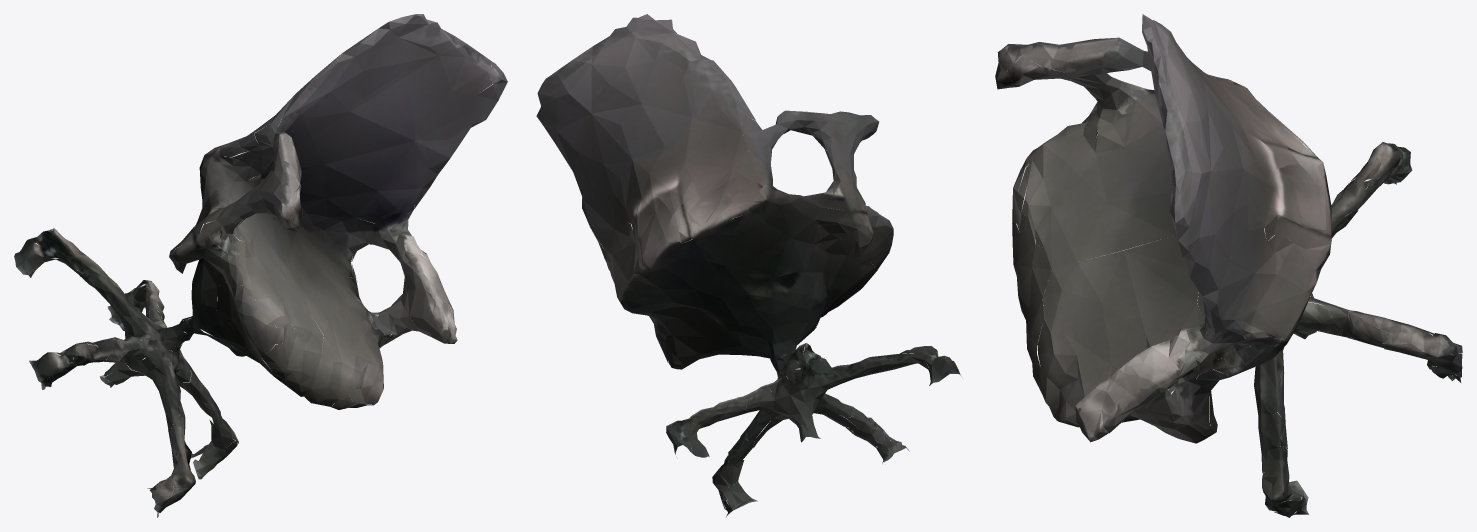
File: chair.glb
3 renders of one model, left to right at view 1: azimuth 30°, elevation 25°; view 2: azimuth 150°, elevation 25°; view 3: azimuth 270°, elevation 25°, orthographic. The views are drawn at different scales.
Parts seen in each view (by area): view 1: Mesh_0.014; view 2: Mesh_0.014; view 3: Mesh_0.014.
Boxes of the visible parts, bbox=[...] form: Mesh_0.014: bbox=[14, 14, 507, 517]; Mesh_0.014: bbox=[536, 14, 961, 516]; Mesh_0.014: bbox=[995, 14, 1462, 517].
Size of the model in its own units: 0.802 by 0.761 by 0.5553.
1 material, 1 textured.
